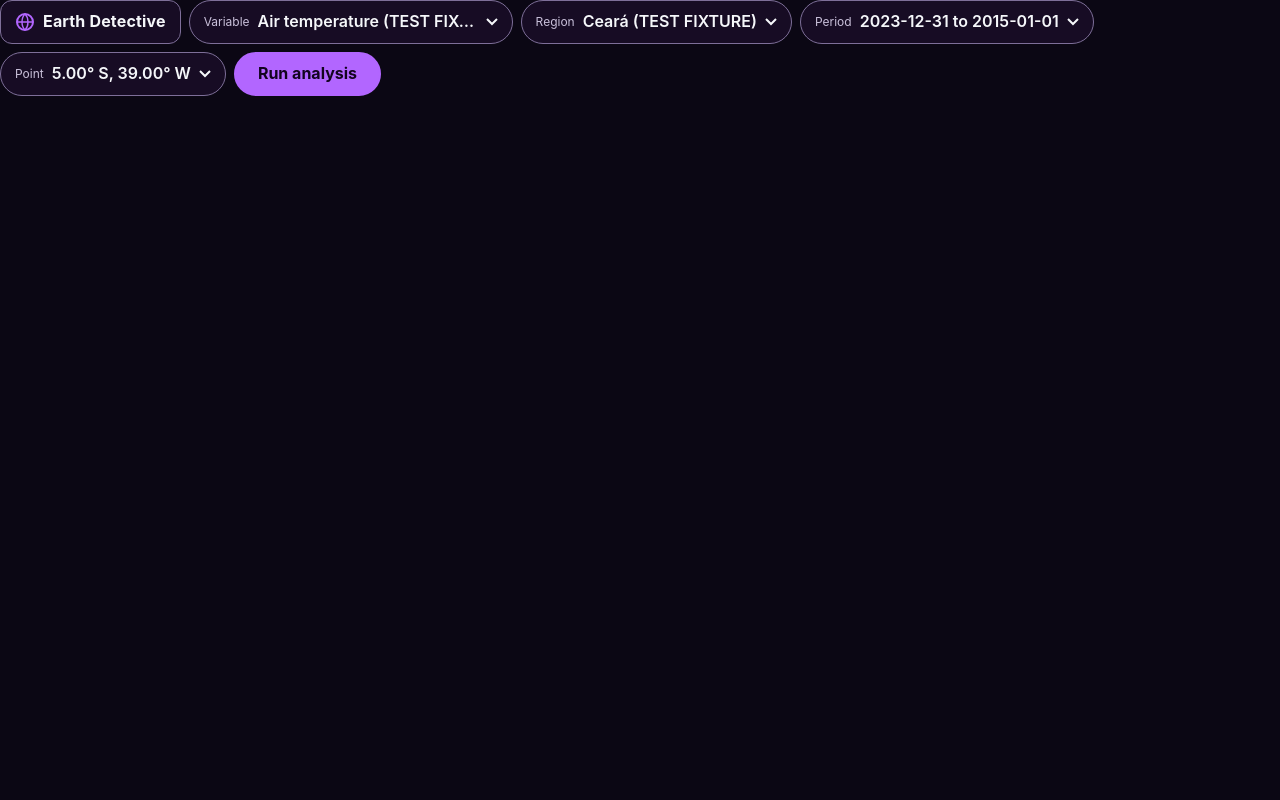
Test: ControlsBar chips › warns when the start date is after the end date
Click the button with aria-label "Period:" at (947, 22), box [800, 0, 1094, 44]
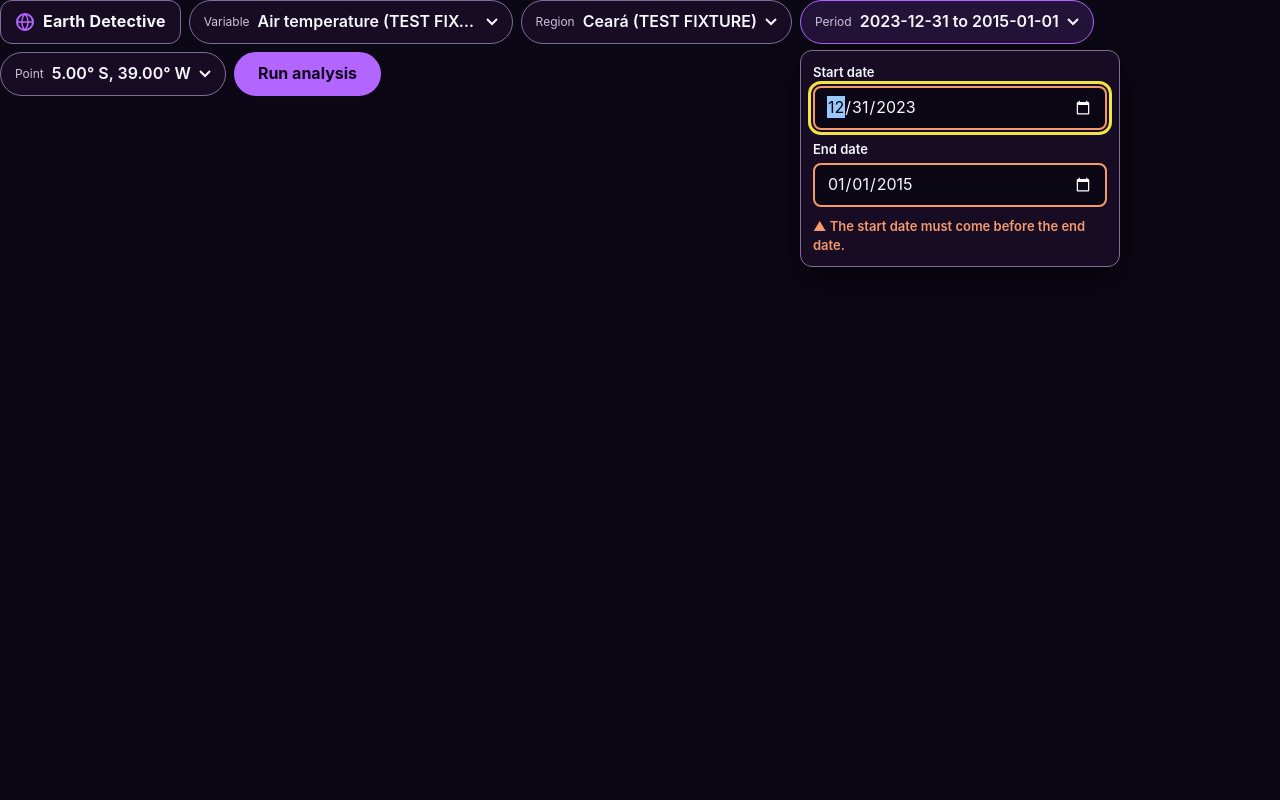
Check: the message reads "The start date must come before the end date.", box [813, 218, 1085, 252]
